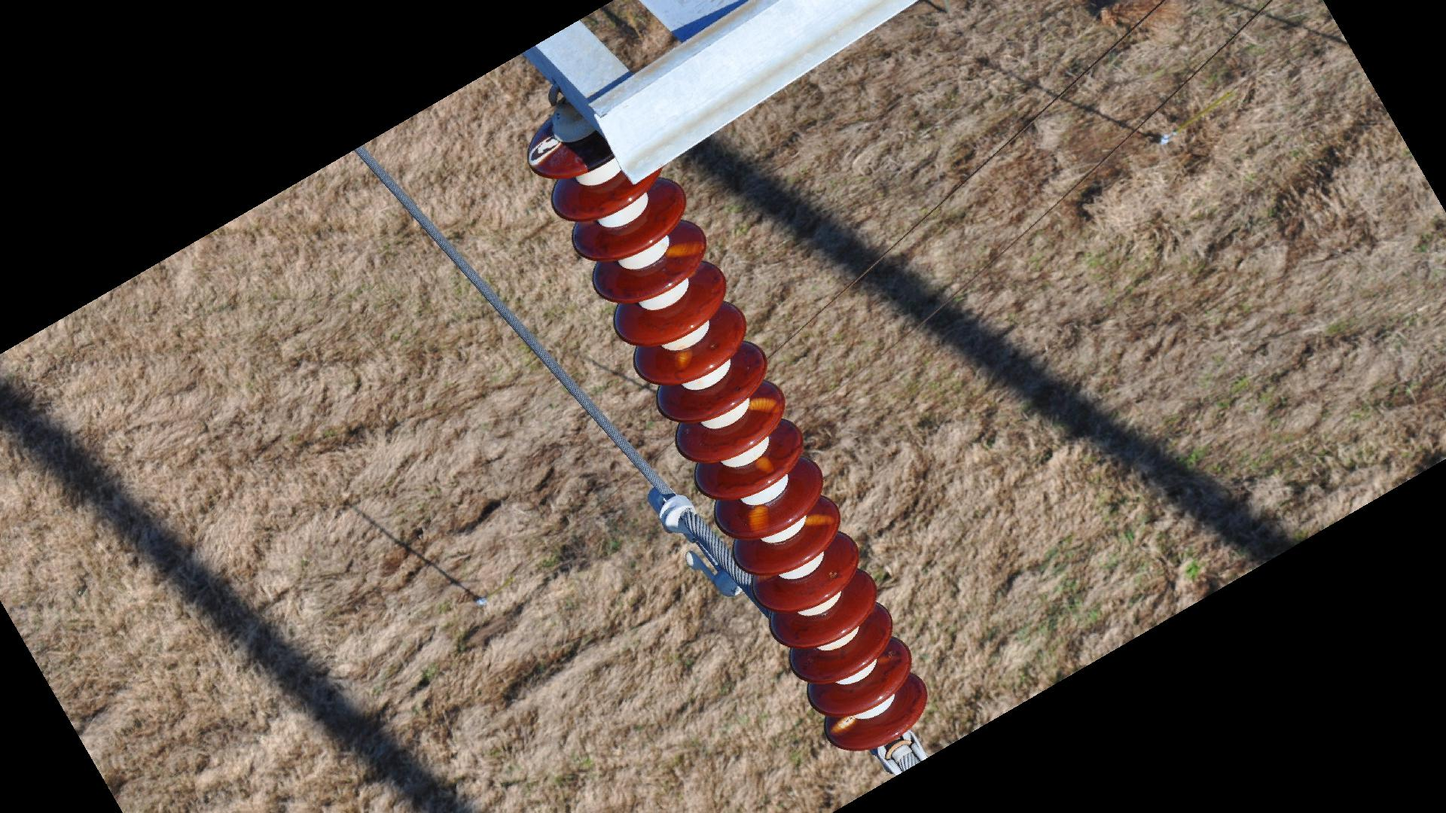insulator: (519, 108, 933, 757)
insulator_flashover: (520, 130, 563, 169), (663, 235, 708, 262), (746, 502, 773, 538), (746, 394, 781, 416), (828, 713, 857, 737), (672, 345, 696, 372), (803, 512, 838, 529), (754, 454, 776, 477)
